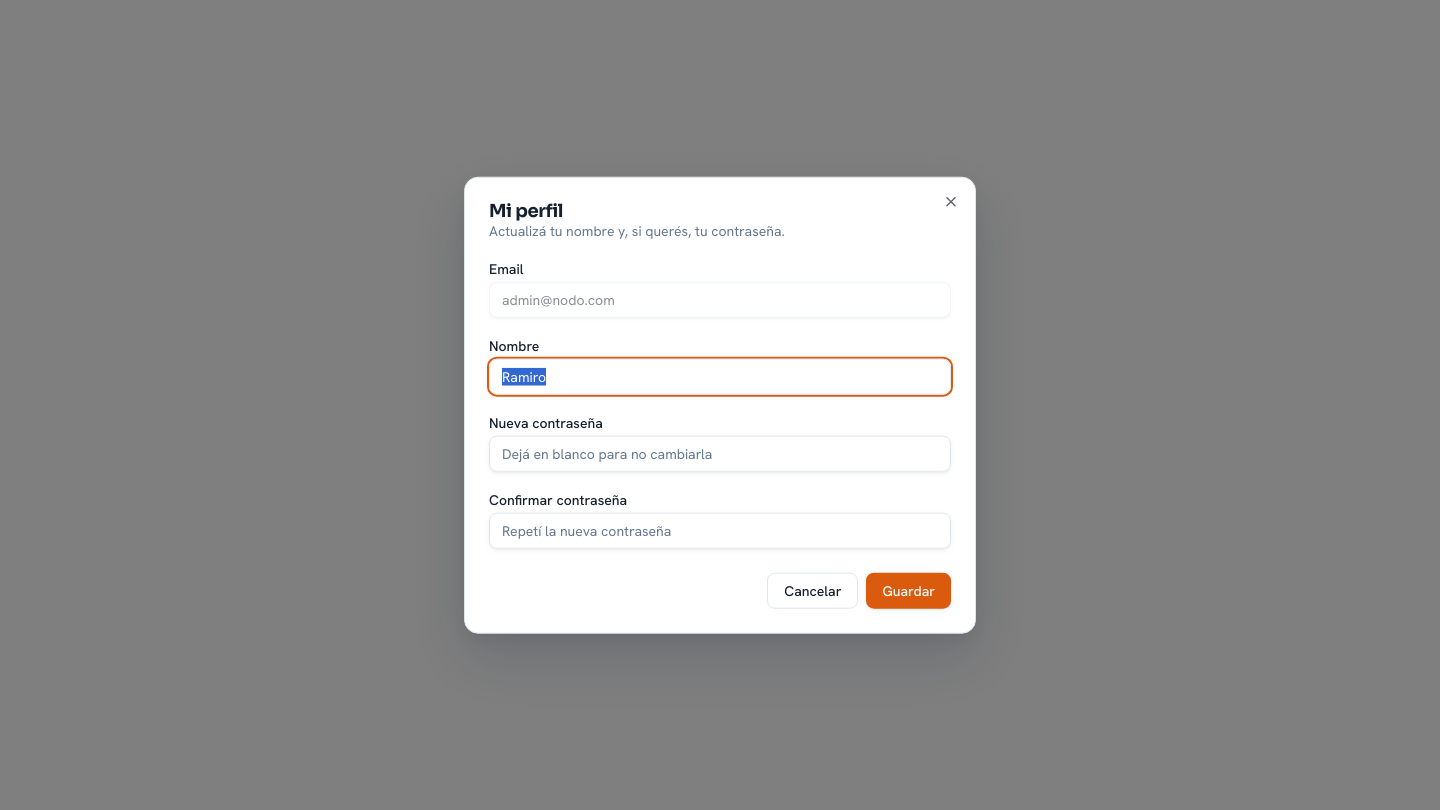
it: ProfileDialog › blocks submit when passwords do not match
Type "secret1" into the password field labelled "Nueva contraseña".
click(720, 454); type("secret1")  # box [489,436,951,472]
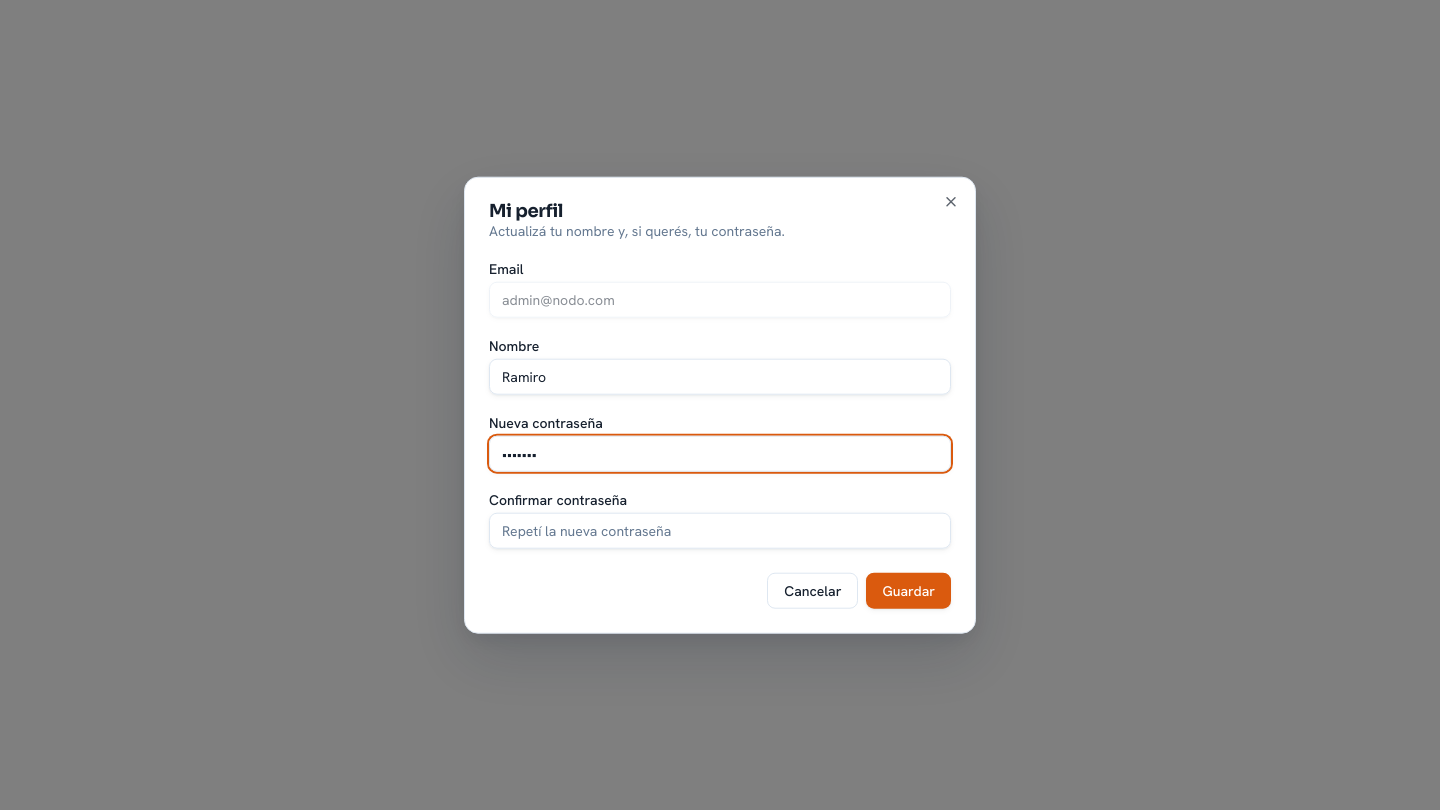
Type "secret2" into the password field labelled "Confirmar contraseña".
click(720, 530); type("secret2")  # box [489,512,951,548]
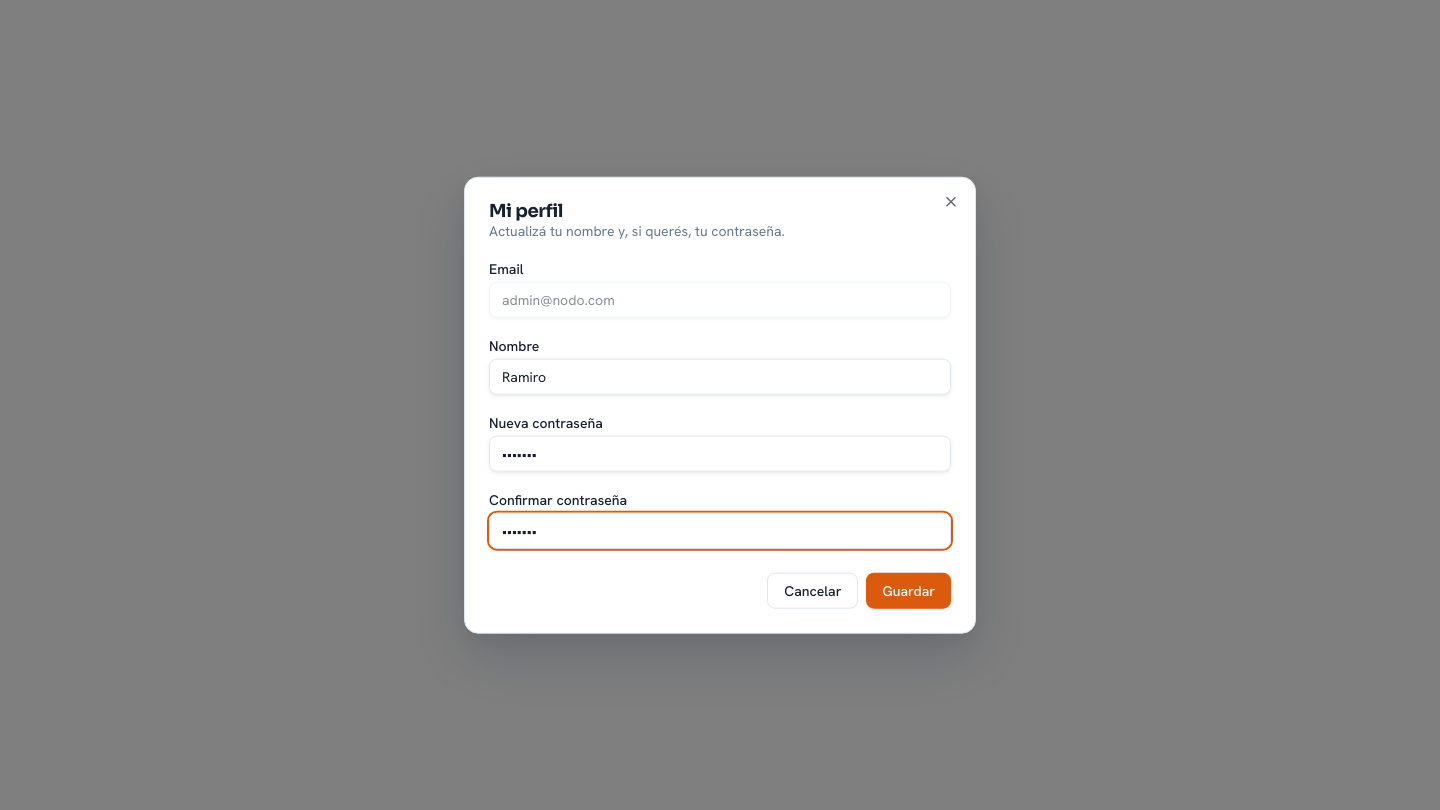
Click the button "Guardar".
click(909, 590)  # box [866,572,951,608]
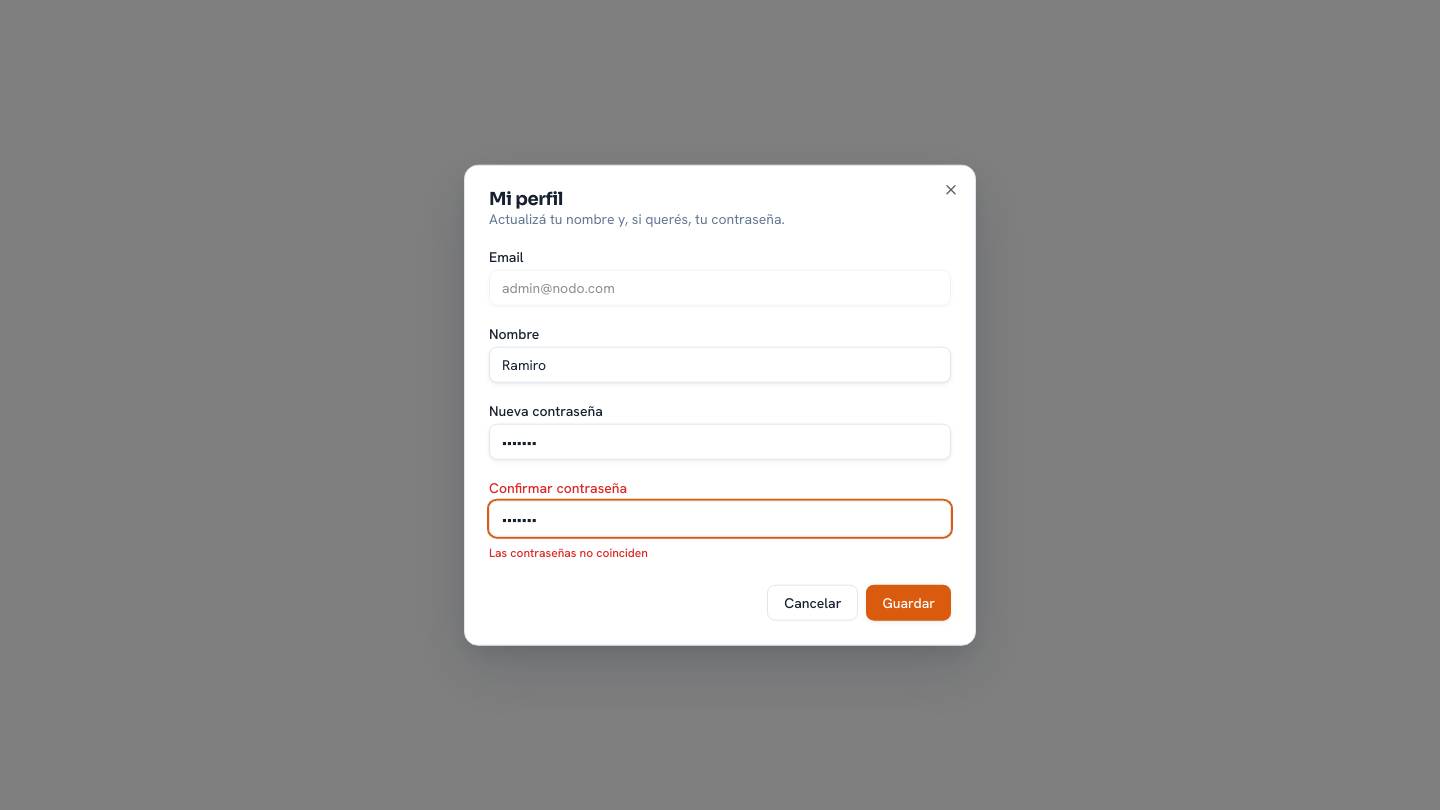
expect the text "Las contraseñas no coinciden" is shown: met, box [489,544,648,560]
